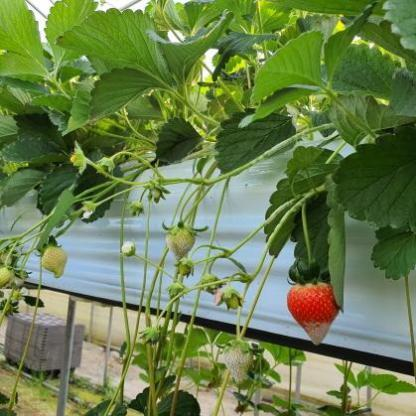Strawberry_Powdery_Mildew_Fruit: (286, 282, 342, 347), (222, 340, 254, 386), (165, 222, 196, 264)
